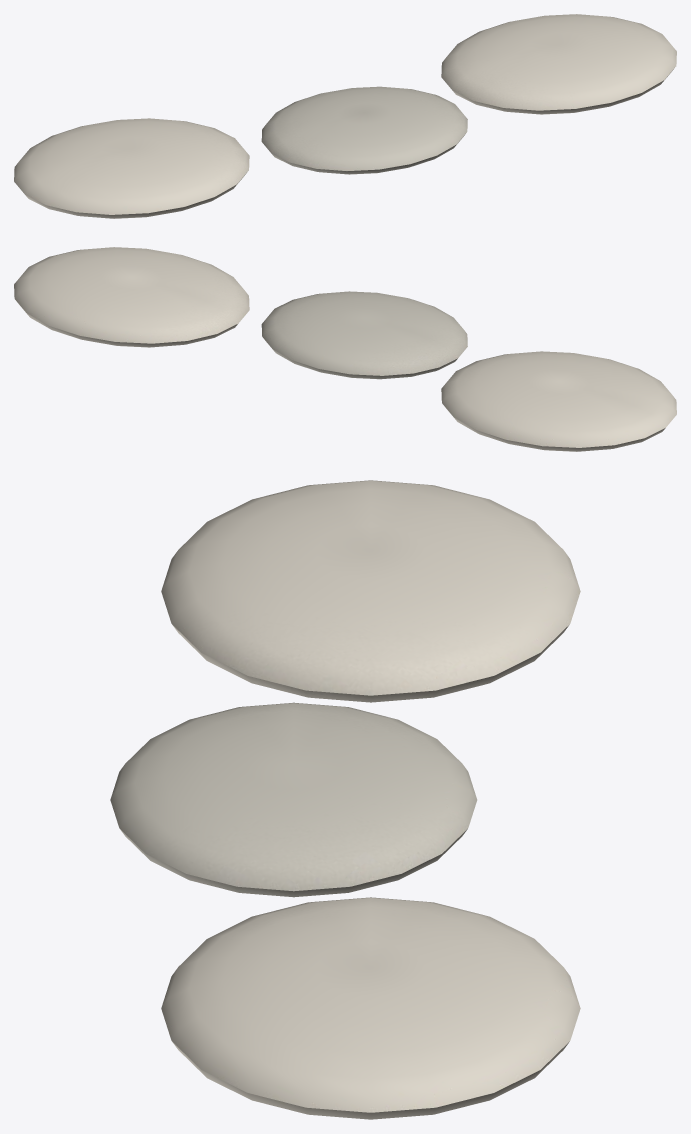
File: stepping_stones.glb
The picture shows the model from 3 angles, top to bottom: view 1: azimuth 30°, elevation 25°; view 2: azimuth 150°, elevation 25°; view 3: azimuth 270°, elevation 25°; orthographic projection. The views are drawn at different scales.
Visible parts, largest first — view 1: stepping_stones; view 2: stepping_stones; view 3: stepping_stones.
Boxes of the visible parts, <box> form: stepping_stones: <box>14,14,676,218</box>; stepping_stones: <box>14,247,676,451</box>; stepping_stones: <box>110,480,580,1119</box>.
Size of the model in its own units: 0.96 by 0.0438 by 0.305.
Materials: 1 (1 with a texture image).
